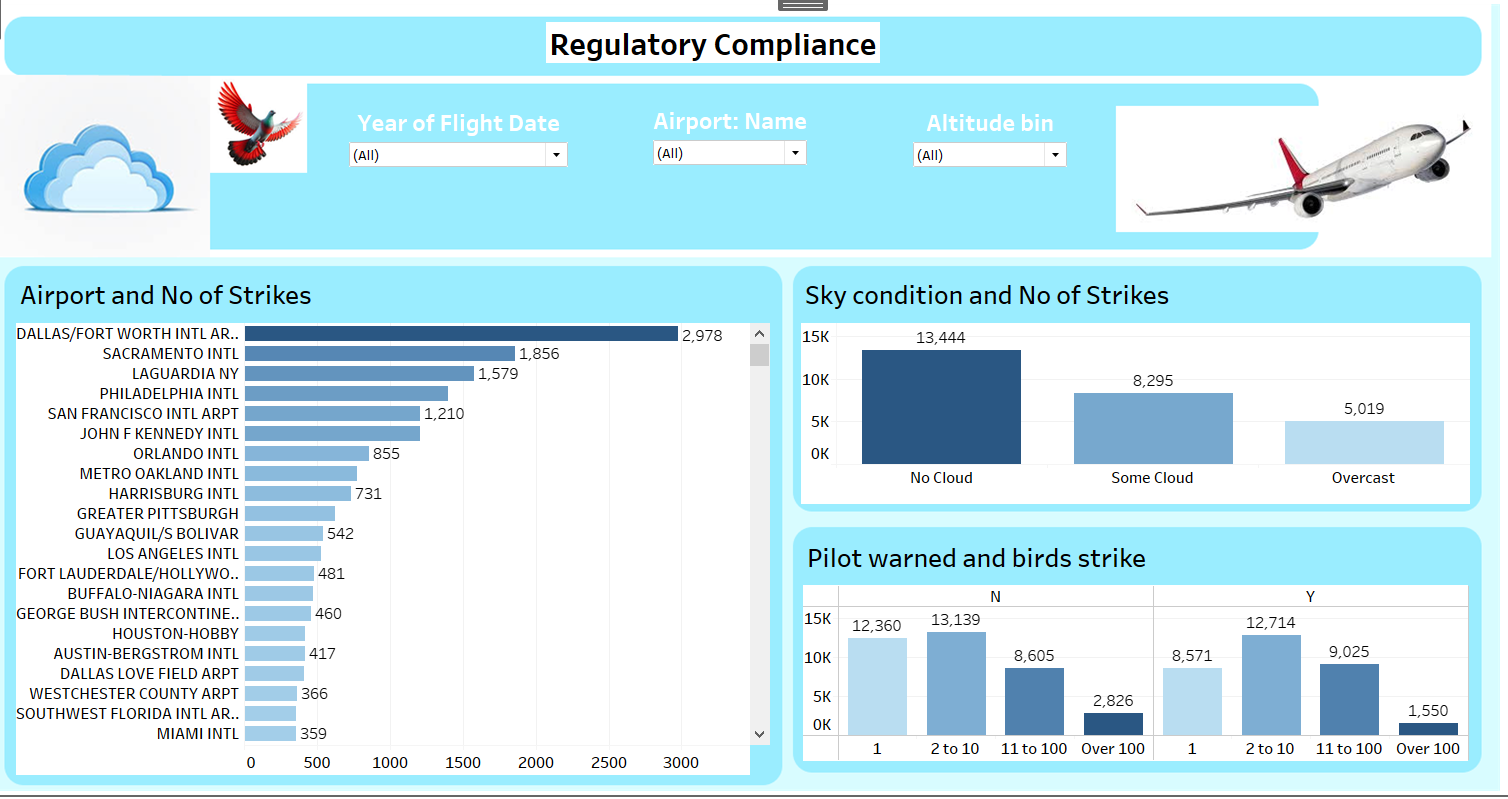

This screenshot's page, from the dashboard's own definition file:
{"tool":"tableau","page":{"name":"Dashboard 3","canvas":[1000,1000],"units":"permille","ordinal":2},"visuals":[{"type":"image","param":"Image/Group 1 (5).png","box":[4.8,9.9,990.3,980.3]},{"type":"text","box":[344.6,37,201.6,50.6]},{"type":"filter","title":"2 (c)","param":"[federated.1rhwjbx1qr7v7i166l8qc01kg7mb].[none:Airport: Name:nk]","box":[407.4,138.1,96.6,138.1]},{"type":"filter","title":"2 (c)","param":"[federated.1rhwjbx1qr7v7i166l8qc01kg7mb].[yr:FlightDate:ok]","box":[223.9,140.6,135.8,109.7]},{"type":"filter","title":"2 (c)","param":"[federated.1rhwjbx1qr7v7i166l8qc01kg7mb].[none:Altitude bin:nk]","box":[564.3,140.6,96.6,146.7]},{"type":"worksheet","title":"2 (c)","mark":"Automatic","rows":[" Name"],"cols":[" Number Struck Actual"],"box":[24.7,346.5,455,619]},{"type":"worksheet","title":"2 (b)","mark":"Automatic","rows":[" Number Struck Actual"],"cols":[" Sky"],"box":[498.5,346.5,403.7,284.8]},{"type":"worksheet","title":"2 (a)","mark":"Automatic","rows":[" Number Struck Actual"],"cols":["Pilot warned of birds or wildlife?"," Number struck"],"box":[499.7,670.8,401.9,277.4]}]}

Visuals, with their boxes on the dashboard's canvas, which has no fixed pixel size, in thousandths of its width and height (x1, y1, x2, y2). These are canvas units, not pixel positions in the 1508x799 screenshot, which may show the page scaled, cropped or inside an application window:
image: x1=5 y1=10 x2=995 y2=990
text: x1=345 y1=37 x2=546 y2=88
"2 (c)" filter: x1=407 y1=138 x2=504 y2=276
"2 (c)" filter: x1=224 y1=141 x2=360 y2=250
"2 (c)" filter: x1=564 y1=141 x2=661 y2=287
"2 (c)" worksheet: x1=25 y1=346 x2=480 y2=966
"2 (b)" worksheet: x1=498 y1=346 x2=902 y2=631
"2 (a)" worksheet: x1=500 y1=671 x2=902 y2=948
